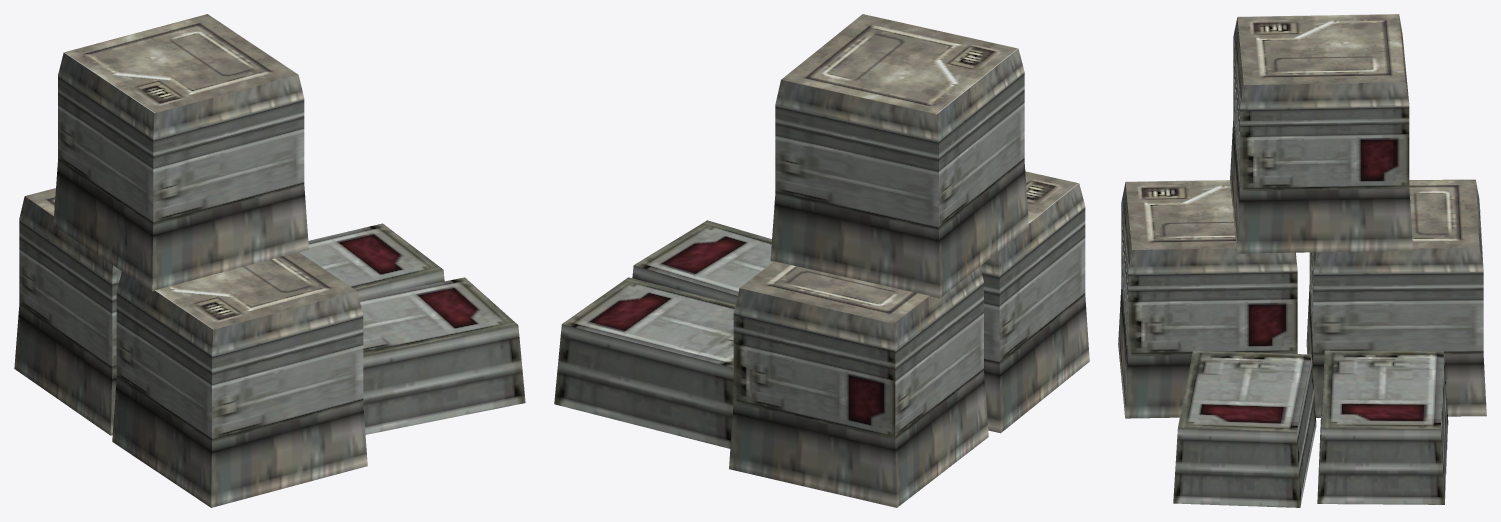
The model's file is eaw_crates7.glb.
The picture shows the model from 3 angles, left to right: view 1: azimuth 30°, elevation 25°; view 2: azimuth 150°, elevation 25°; view 3: azimuth 270°, elevation 25°; orthographic projection. The views are drawn at different scales.
Parts seen in each view (by area): view 1: clusterE_02_0; view 2: clusterE_02_0; view 3: clusterE_02_0.
Boxes of the visible parts, x1,y1,x2,y2 form: clusterE_02_0: (14, 14, 525, 507); clusterE_02_0: (554, 14, 1089, 507); clusterE_02_0: (1118, 14, 1486, 507).
Size of the model in its own units: 2.12 by 1.96 by 1.98.
Materials: 1 (1 with a texture image).
